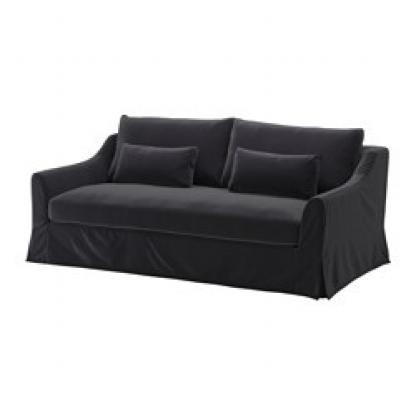Sofa: (23, 93, 396, 303)
